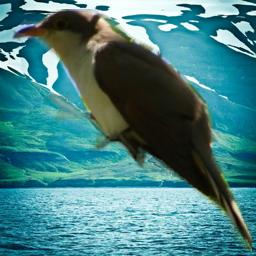Cuckoo: (7, 9, 252, 252)
